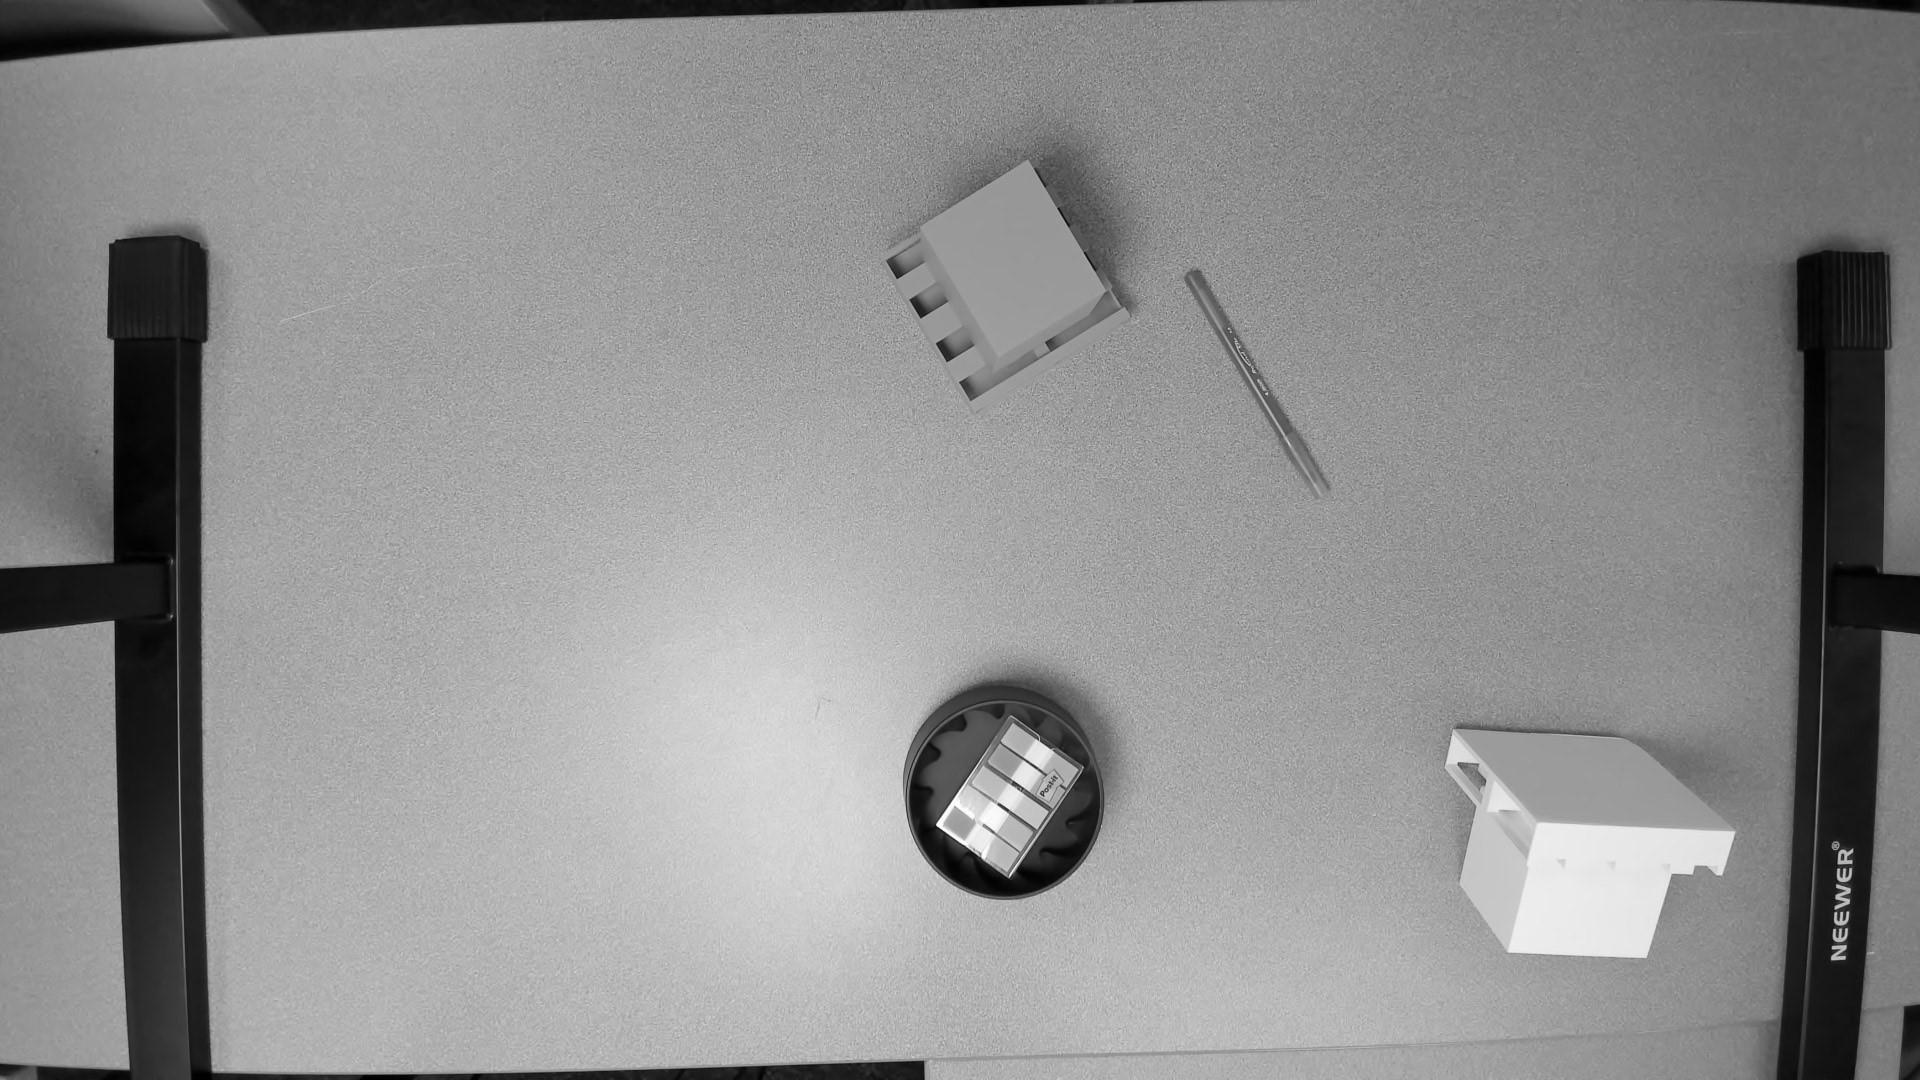grey pallet: (876, 157, 1141, 421)
white pallet: (1437, 717, 1743, 978)
